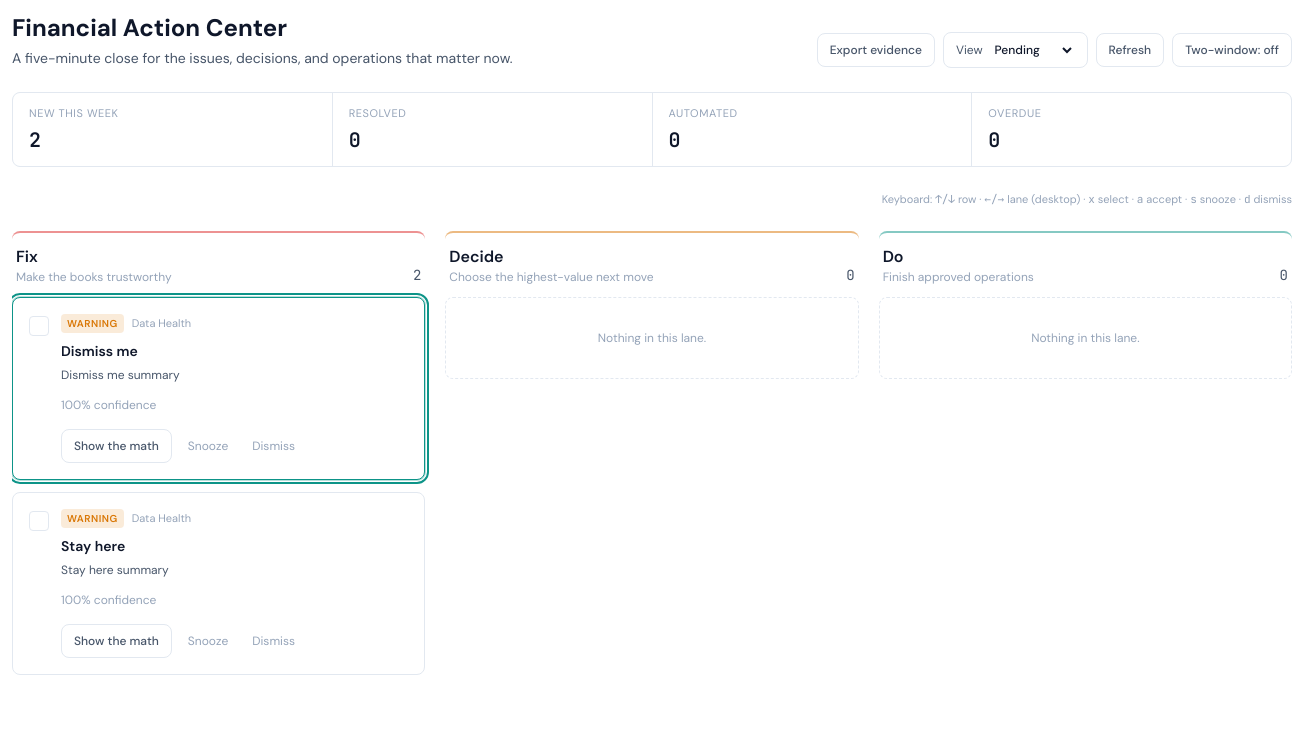
Test case: FinancialActionCenterPage mutations › keeps the card grid mounted while a dismissed item is refreshed away
Expected: the text "Dismiss me" is shown, [61, 342, 138, 360]
Click the button "Dismiss" below "Dismiss me summary" at (274, 446), box [244, 430, 303, 462]
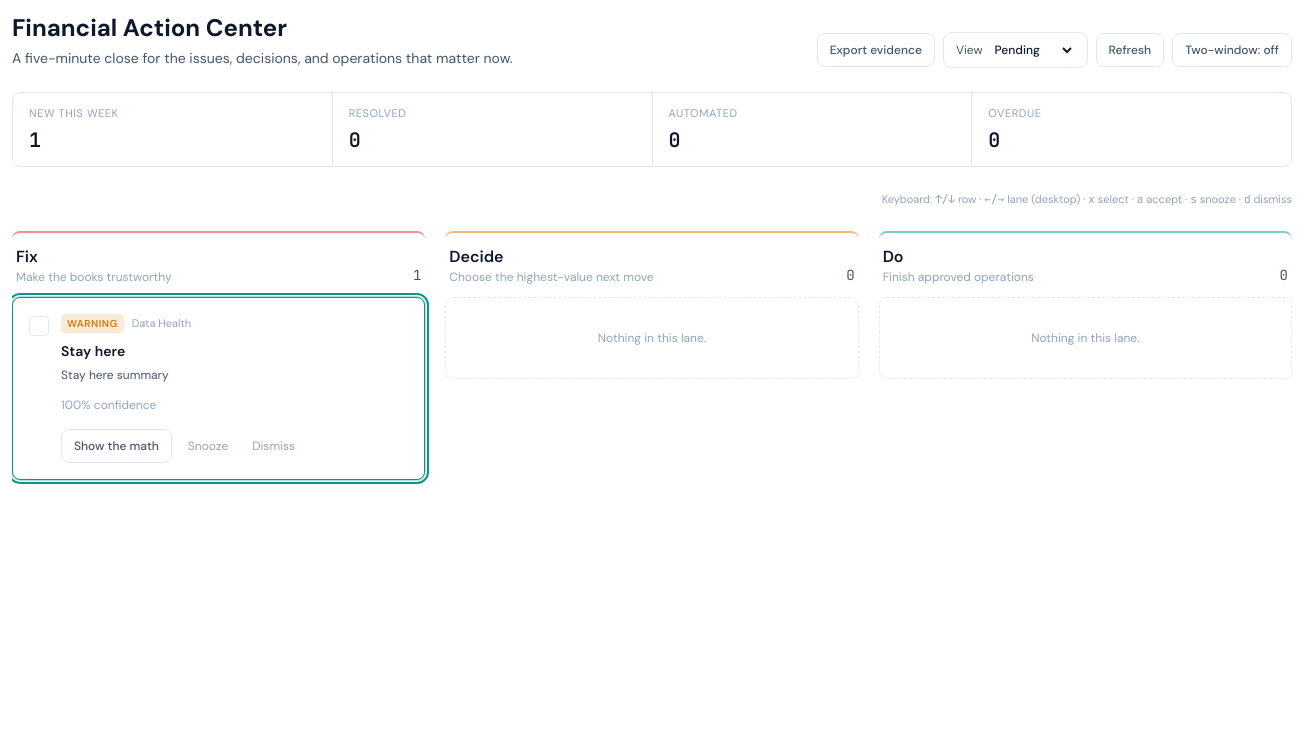
Expected: the heading "Stay here" is shown, [61, 342, 125, 360]
Now the heading "Dismiss me" is gone
